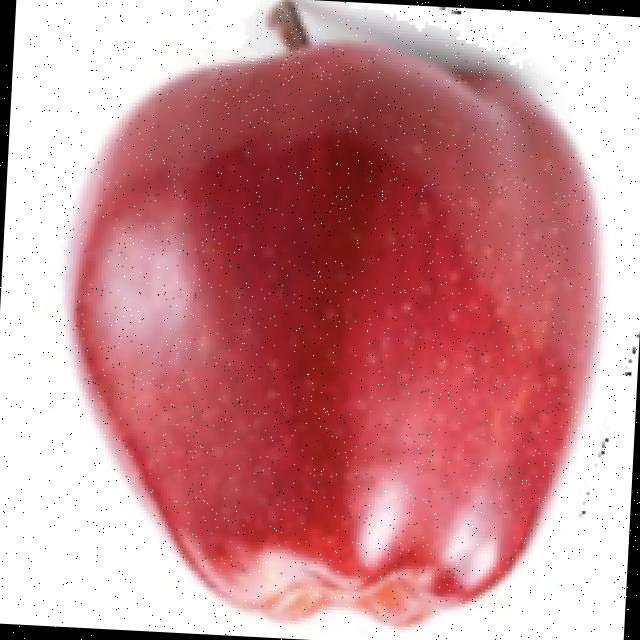apple: (56, 0, 610, 636)
